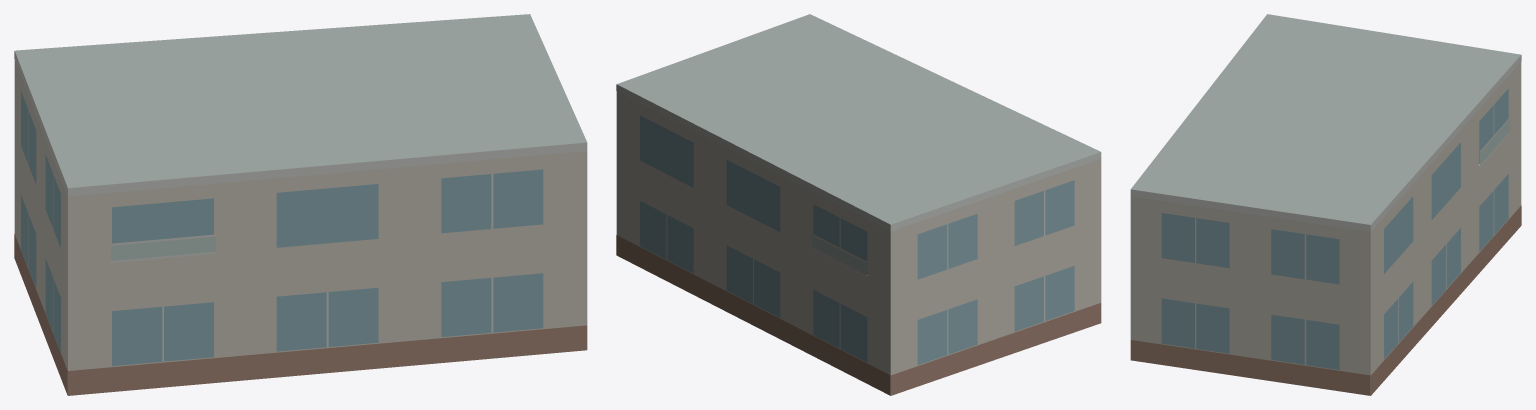
The model's file is survey-upis-33021475.glb.
3 views of the same model, side by side, from view 1: azimuth 30°, elevation 25°; view 2: azimuth 150°, elevation 25°; view 3: azimuth 270°, elevation 25° (orthographic). The views are drawn at different scales.
Parts seen in each view (by area): view 1: survey-upis-33021475.tmp; view 2: survey-upis-33021475.tmp; view 3: survey-upis-33021475.tmp.
Part boxes in pixels (x1,y1,x2,y2): survey-upis-33021475.tmp: [14, 14, 587, 395]; survey-upis-33021475.tmp: [616, 14, 1101, 395]; survey-upis-33021475.tmp: [1130, 14, 1521, 395].
Bounding box in the file's own units: 16.16 × 6.1 × 12.65.
